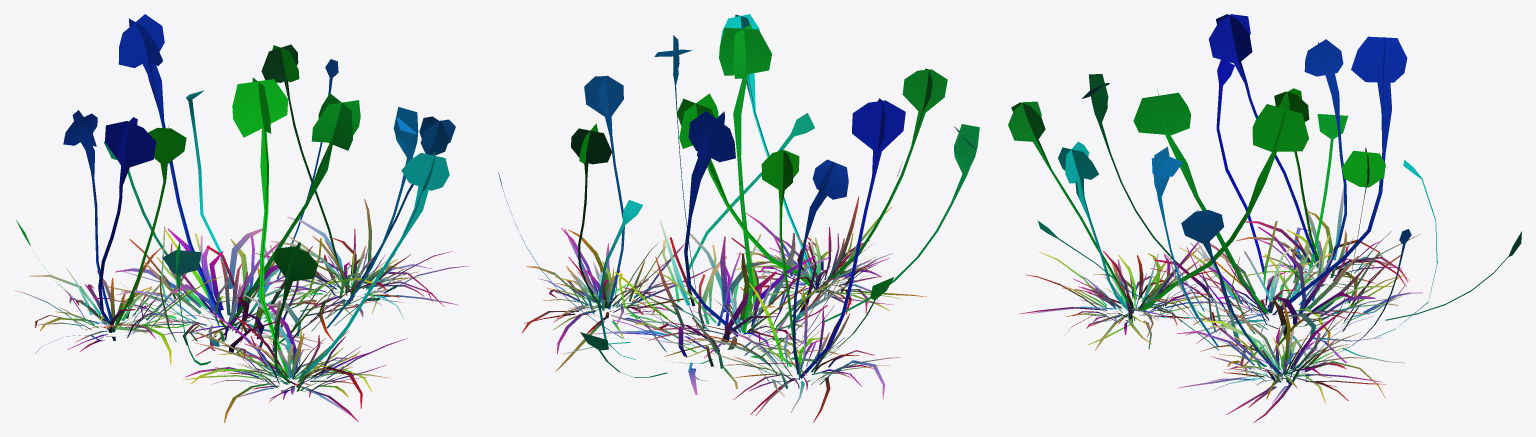
File: Sea_Thrift_vkbgaihha_Mid_vkbgaihha_VarA_LOD1.fbx
3 views of the same model, side by side, from view 1: azimuth 30°, elevation 25°; view 2: azimuth 150°, elevation 25°; view 3: azimuth 270°, elevation 25° (orthographic). The views are drawn at different scales.
Parts seen in each view (by area): view 1: _wchg_VarA_LOD2; view 2: _wchg_VarA_LOD2; view 3: _wchg_VarA_LOD2.
Part boxes in pixels (x1=…): _wchg_VarA_LOD2: x1=14, y1=14, x2=469, y2=422; _wchg_VarA_LOD2: x1=498, y1=14, x2=979, y2=422; _wchg_VarA_LOD2: x1=1008, y1=14, x2=1521, y2=422.
Size of the model in its own units: 30.48 by 22.47 by 36.07.
